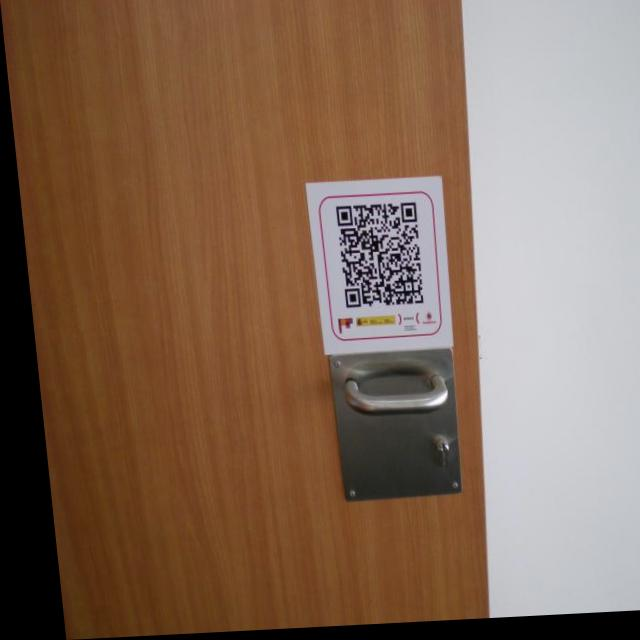qrcode: (332, 208, 419, 312)
